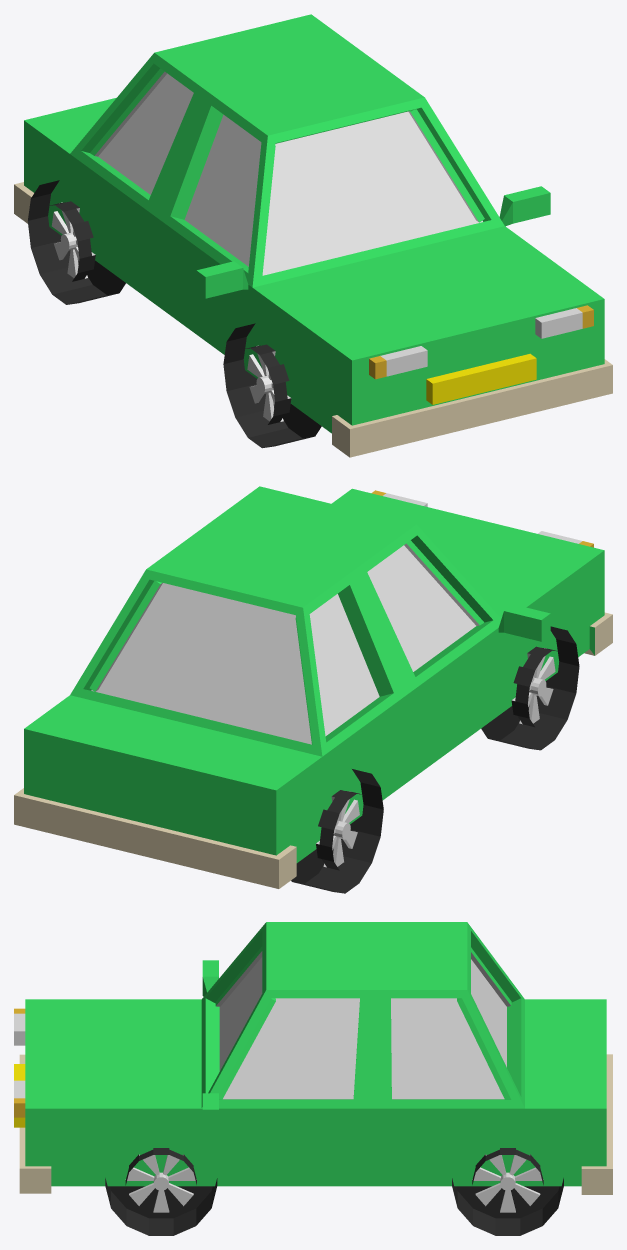
Rendered from first_car_model_only.glb.
3 views of the same model, one above another, from view 1: azimuth 30°, elevation 25°; view 2: azimuth 150°, elevation 25°; view 3: azimuth 270°, elevation 25° (orthographic). The views are drawn at different scales.
Parts seen in each view (by area): view 1: Cube, Cylinder.003, Cylinder.001, Cube.003, Cube.002, Cube.001; view 2: Cube, Cylinder.001, Cylinder.003, Cube.002; view 3: Cube, Cylinder.001, Cylinder.003, Cube.002, Cube.001.
Boxes of the visible parts, <box> form: Cube: <box>14,14,612,457</box>; Cylinder.003: <box>27,180,125,304</box>; Cylinder.001: <box>223,323,321,448</box>; Cube.003: <box>426,353,536,404</box>; Cube.002: <box>196,186,550,298</box>; Cube.001: <box>369,305,593,379</box>; Cube: <box>14,486,612,888</box>; Cylinder.001: <box>481,626,579,750</box>; Cylinder.003: <box>291,769,383,893</box>; Cube.002: <box>498,604,550,641</box>; Cube: <box>19,922,612,1194</box>; Cylinder.001: <box>105,1148,217,1235</box>; Cylinder.003: <box>452,1148,563,1235</box>; Cube.002: <box>202,960,218,1128</box>; Cube.001: <box>14,1008,25,1117</box>.
Bounding box in the file's own units: 2.73 × 1.87 × 4.64.
